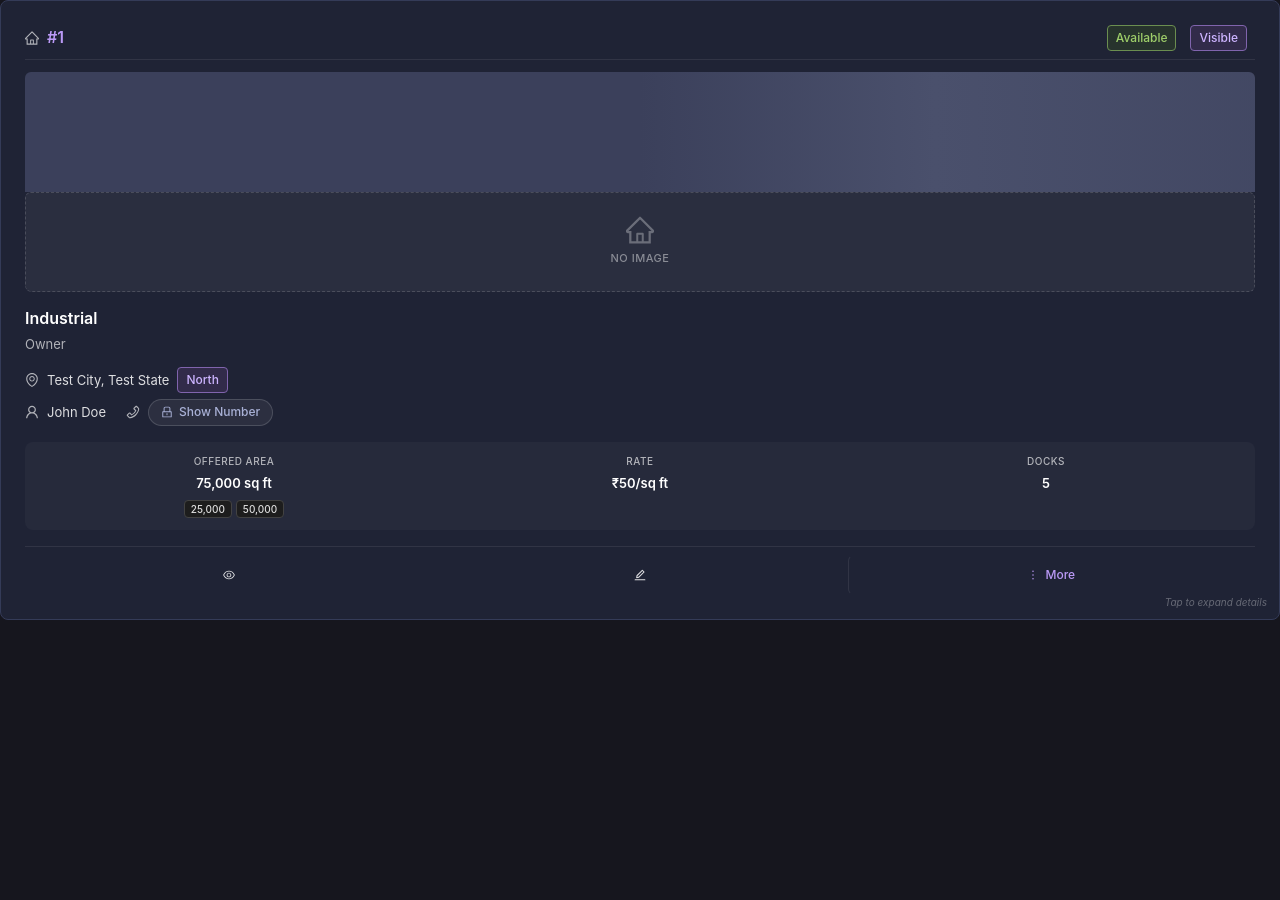
Test: expanded warehouse area › shows current area options when a conflicting legacy value exists
Step 1. Click the button "More" → click(1051, 575), box x1=848 y1=555 x2=1255 y2=595
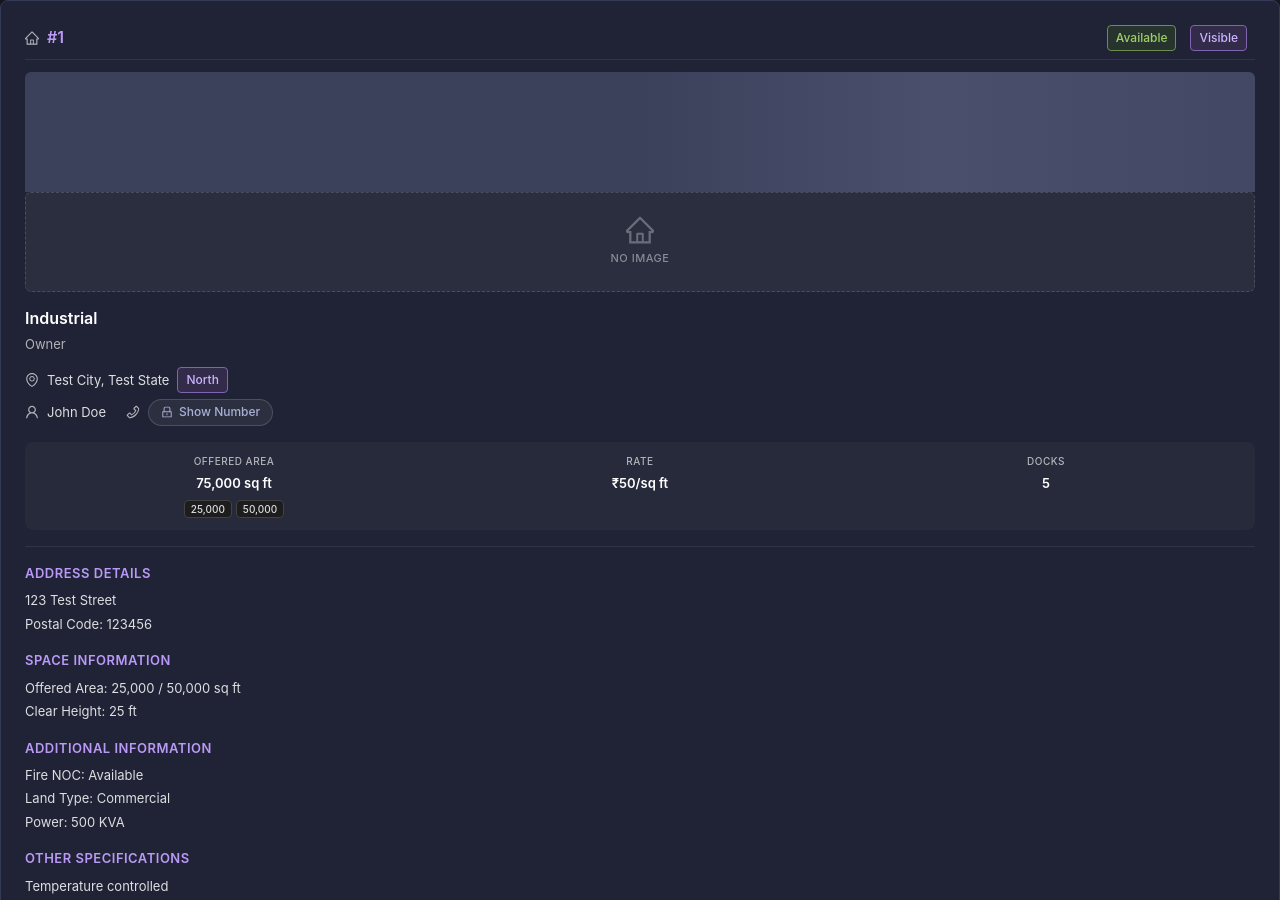
Check: the text "Offered Area: 25,000 / 50,000 sq ft" is shown, box x1=25 y1=680 x2=241 y2=696
